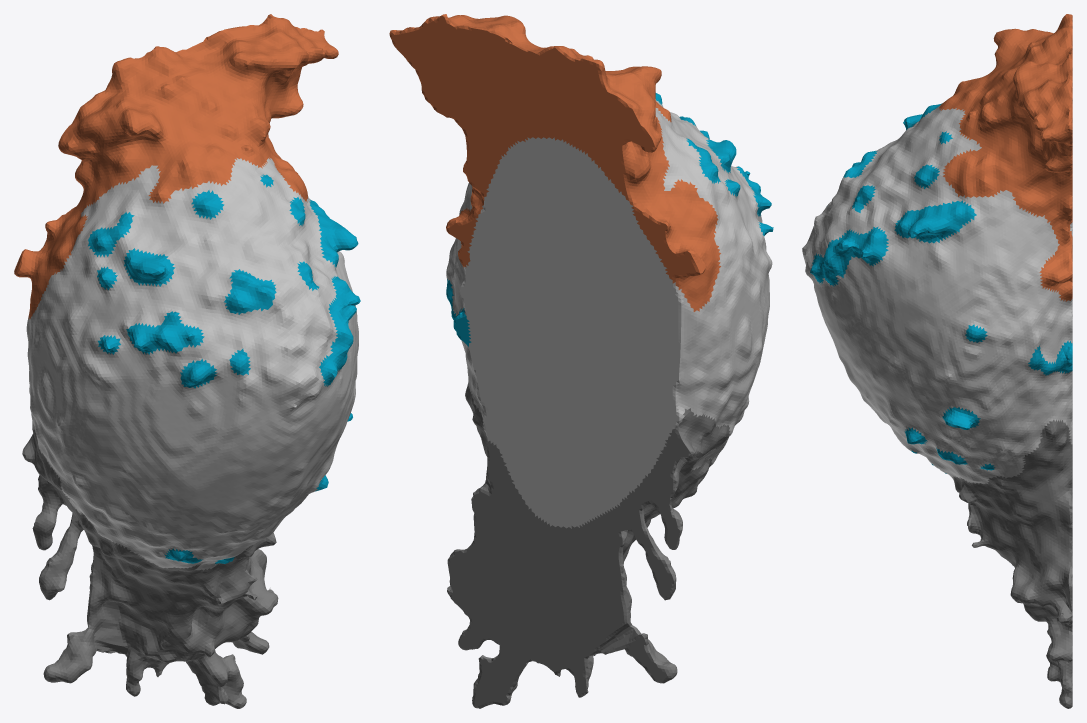
The picture shows the model from 3 angles, left to right: view 1: azimuth 30°, elevation 25°; view 2: azimuth 150°, elevation 25°; view 3: azimuth 270°, elevation 25°; orthographic projection. The views are drawn at different scales.
Bounding box in the file's own units: 88.59 × 182 × 68.63.
